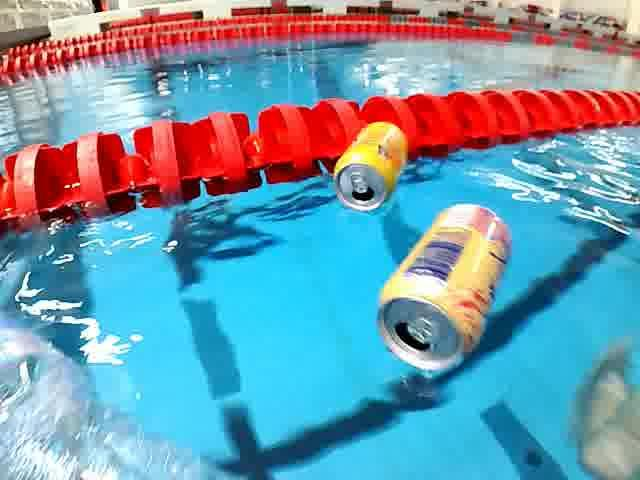Bottle: (1, 312, 254, 480)
Can: (371, 194, 519, 372), (329, 120, 415, 218)
